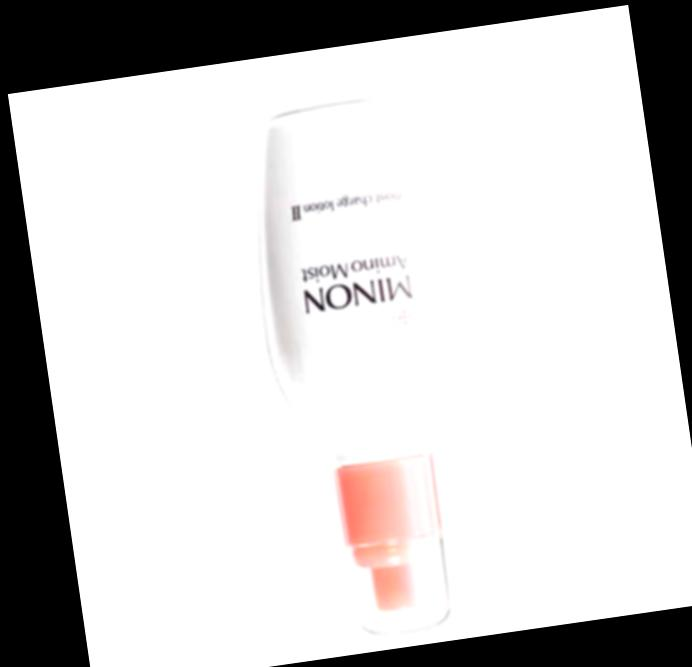cosmetic: (232, 86, 505, 651)
